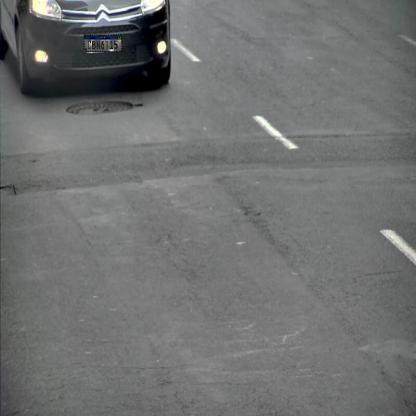PlacaM: (84, 35, 122, 52)
